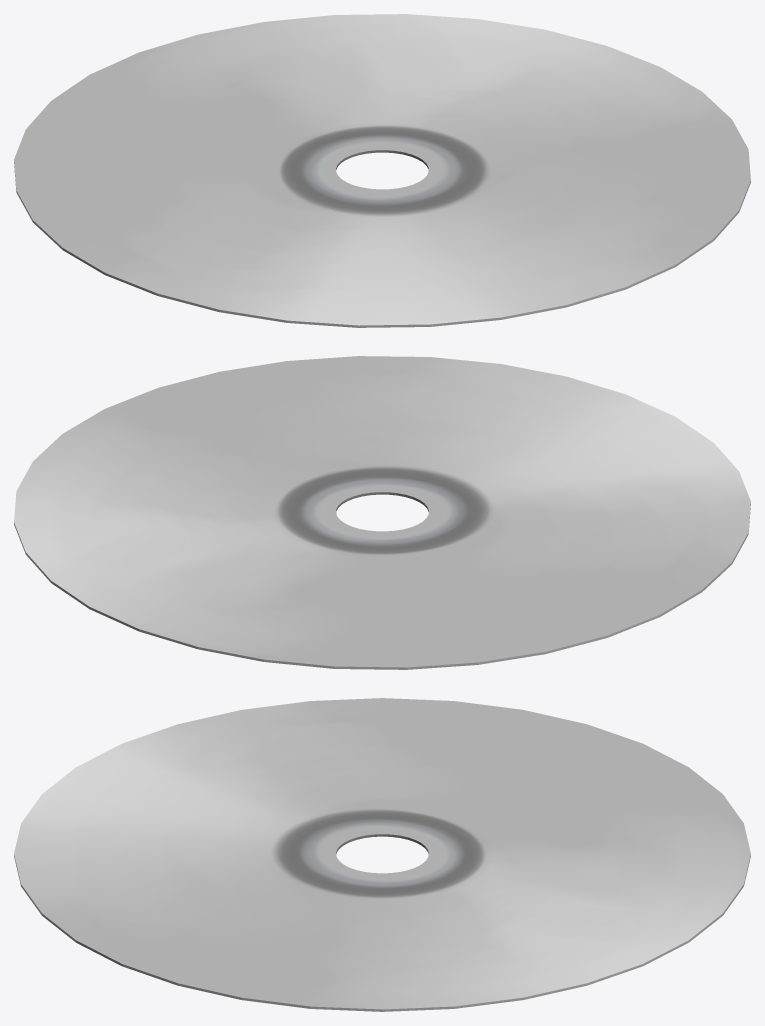
The model's file is music_metal.fbx.
3 renders of one model, top to bottom at view 1: azimuth 30°, elevation 25°; view 2: azimuth 150°, elevation 25°; view 3: azimuth 270°, elevation 25°, orthographic.
Visible parts, largest first — view 1: Cube; view 2: Cube; view 3: Cube.
Part boxes in pixels (box(x1,y1,x2,y2)): Cube: box(14, 14, 750, 327); Cube: box(14, 356, 750, 669); Cube: box(14, 698, 750, 1011).
Bounding box in the file's own units: 200 × 0.7236 × 200.
Materials: 1 (1 with a texture image).
